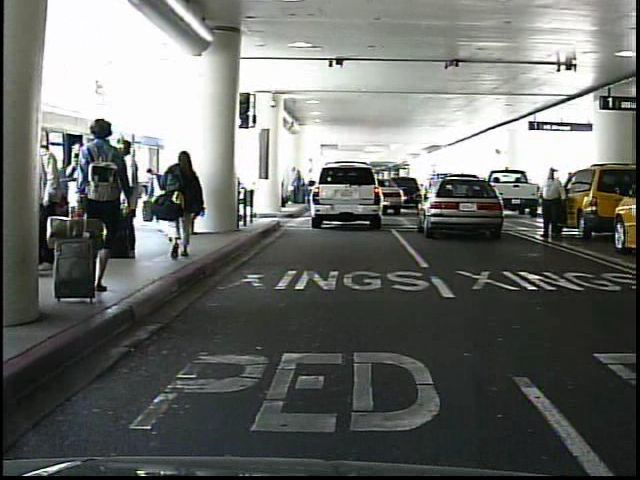person: (75, 113, 130, 305), (160, 144, 205, 268), (35, 126, 68, 277), (109, 137, 146, 258), (539, 167, 567, 243), (172, 156, 196, 234)
